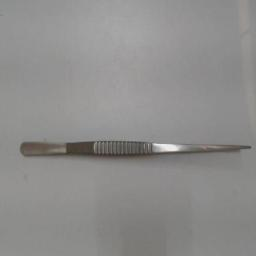DeBakey Dissector: (14, 134, 254, 182)
